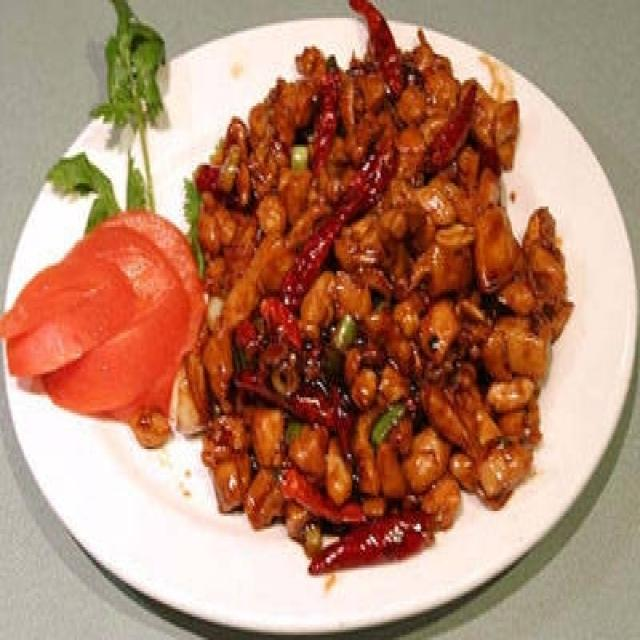鸡肉料理 含炸鸡: (34, 18, 626, 609)
